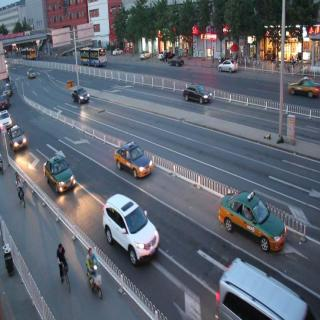BigCar: (78, 44, 109, 67)
Car: (214, 253, 320, 320), (219, 182, 294, 250), (104, 191, 164, 265), (115, 136, 154, 182), (42, 151, 78, 197), (287, 72, 320, 98), (183, 79, 213, 106), (7, 125, 27, 154), (72, 85, 91, 107), (218, 57, 238, 73), (0, 109, 13, 131), (167, 54, 184, 70), (138, 46, 152, 62), (2, 82, 12, 98), (26, 68, 38, 81), (112, 47, 125, 57)
